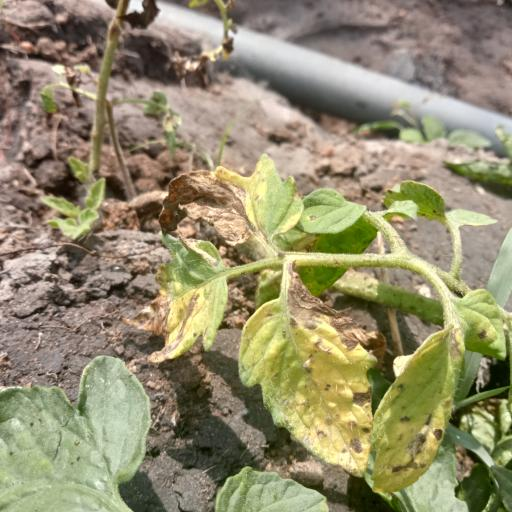Tomato_Brown_Spots: (236, 281, 390, 478), (368, 307, 471, 497), (134, 232, 234, 372)
